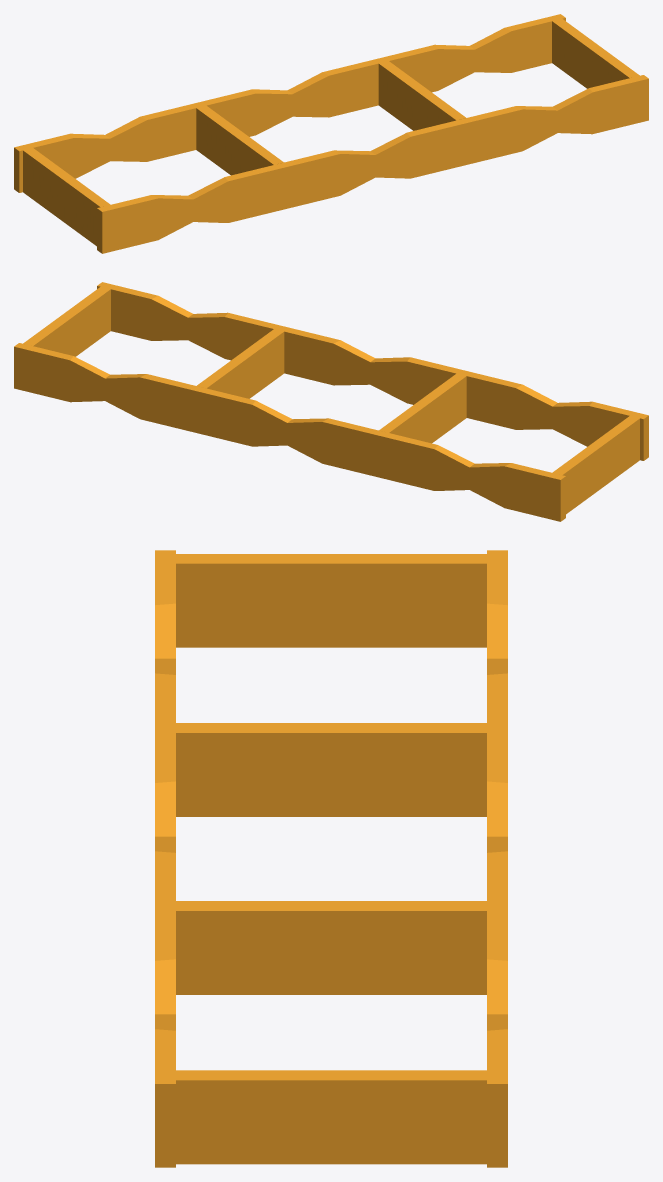
File: SM_Barrel_Stand_3m_Empty.fbx
The picture shows the model from 3 angles, top to bottom: view 1: azimuth 30°, elevation 25°; view 2: azimuth 150°, elevation 25°; view 3: azimuth 270°, elevation 25°; orthographic projection. The views are drawn at different scales.
Parts seen in each view (by area): view 1: barrel-stand-3m-empty; view 2: barrel-stand-3m-empty; view 3: barrel-stand-3m-empty.
Boxes of the visible parts, x1,y1,x2,y2 form: barrel-stand-3m-empty: (14,14,648,253); barrel-stand-3m-empty: (14,282,648,521); barrel-stand-3m-empty: (155,550,507,1167).
Size of the model in its own units: 3 by 0.22 by 0.839.
